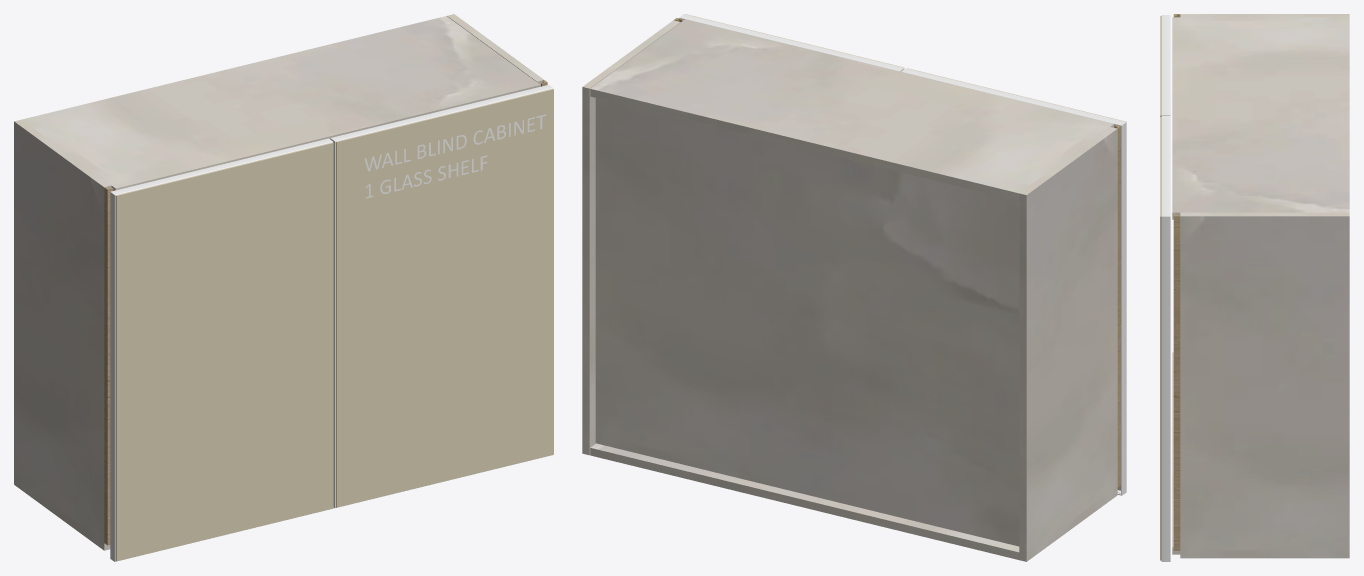
Rendered from WALL BLIND CABINET 1 GLASS SHELF (H720xW900xD336) S450_WBC1GS1HS_LH.glb.
3 renders of one model, left to right at view 1: azimuth 30°, elevation 25°; view 2: azimuth 150°, elevation 25°; view 3: azimuth 270°, elevation 25°, orthographic. The views are drawn at different scales.
Size of what is drawn, in the model's own units: 0.9 by 0.7185 by 0.366.
6 materials, 2 textured.
